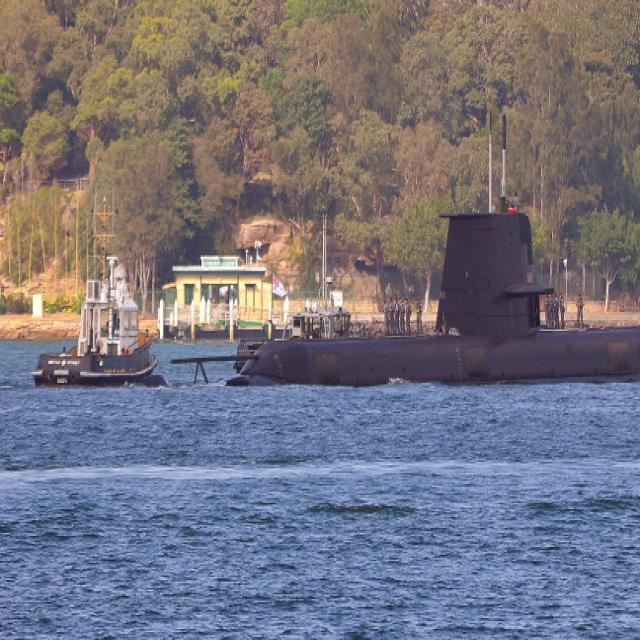submarine: (175, 206, 640, 378)
